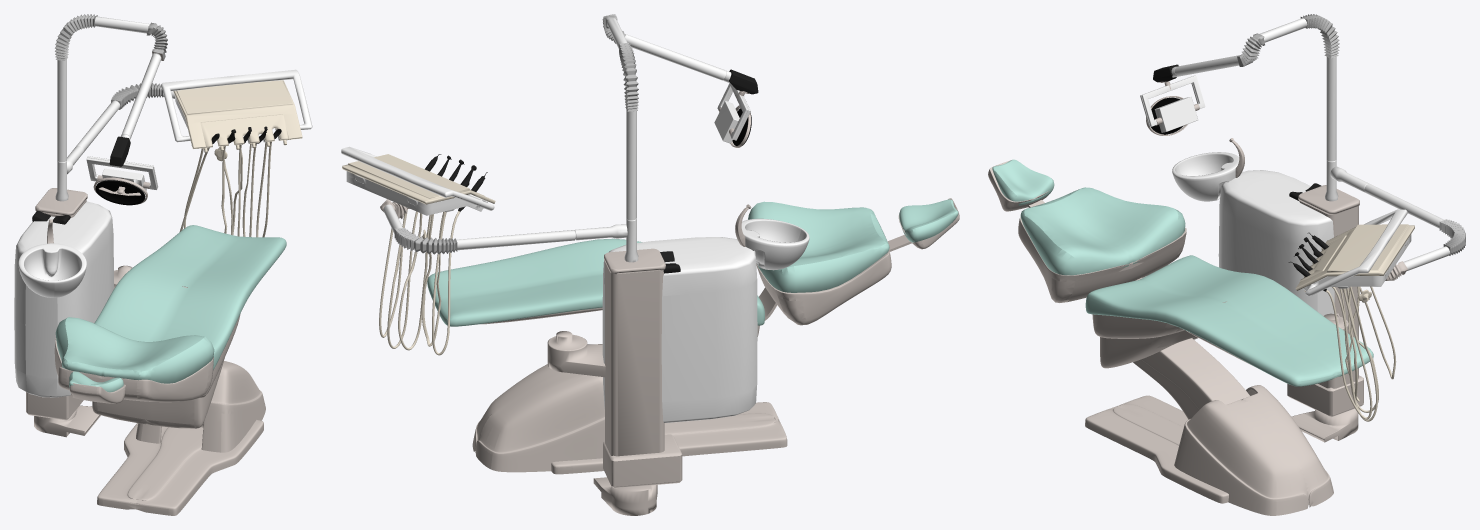
File: Dental chair Granum TS6830 Sonata N251210.glb
The picture shows the model from 3 angles, left to right: view 1: azimuth 30°, elevation 25°; view 2: azimuth 150°, elevation 25°; view 3: azimuth 270°, elevation 25°; orthographic projection. The views are drawn at different scales.
Parts seen in each view (by area): view 1: Box11w, Box04, $$$DUMMY.Group02, Box10, Box01, Box09, Box02, Box06, Box08, Box11, Box12, Box05; view 2: Box11w, Box10, Box04, Box02, $$$DUMMY.Group02, Box09, Box01, Box08, Box11ff, Box12; view 3: Box11w, Box04, Box02, Box10, Box09, $$$DUMMY.Group02, Box01, Box03, Box08, Box12, Box06, Box05 (+1 smaller).
Boxes of the visible parts, x1,y1,x2,y2 form: Box11w: (18, 14, 174, 437); Box04: (94, 225, 286, 369); $$$DUMMY.Group02: (161, 69, 312, 237); Box10: (14, 201, 113, 397); Box01: (97, 420, 263, 515); Box09: (55, 317, 214, 383); Box02: (136, 361, 265, 452); Box06: (92, 358, 224, 428); Box08: (54, 337, 213, 402); Box11: (70, 383, 126, 403); Box12: (69, 371, 123, 392); Box05: (182, 286, 240, 397); Box11w: (380, 14, 809, 515); Box10: (602, 237, 757, 422); Box04: (427, 238, 764, 326); Box02: (472, 364, 604, 472); $$$DUMMY.Group02: (341, 146, 495, 355); Box09: (748, 201, 889, 292); Box01: (551, 402, 787, 474); Box08: (756, 250, 891, 325); Box11ff: (547, 331, 605, 377); Box12: (899, 199, 958, 242); Box11w: (1140, 14, 1465, 442); Box04: (1085, 255, 1373, 386); Box02: (1174, 385, 1333, 515); Box10: (1218, 170, 1334, 315); Box09: (1020, 187, 1185, 275); $$$DUMMY.Group02: (1288, 209, 1414, 421); Box01: (1085, 395, 1228, 503); Box03: (1133, 338, 1249, 419); Box08: (1018, 217, 1186, 302); Box12: (992, 159, 1054, 205); Box06: (1100, 330, 1197, 368); Box05: (1092, 301, 1226, 338).
Bounding box in the file's own units: 0.4898 × 0.4821 × 0.4947.
